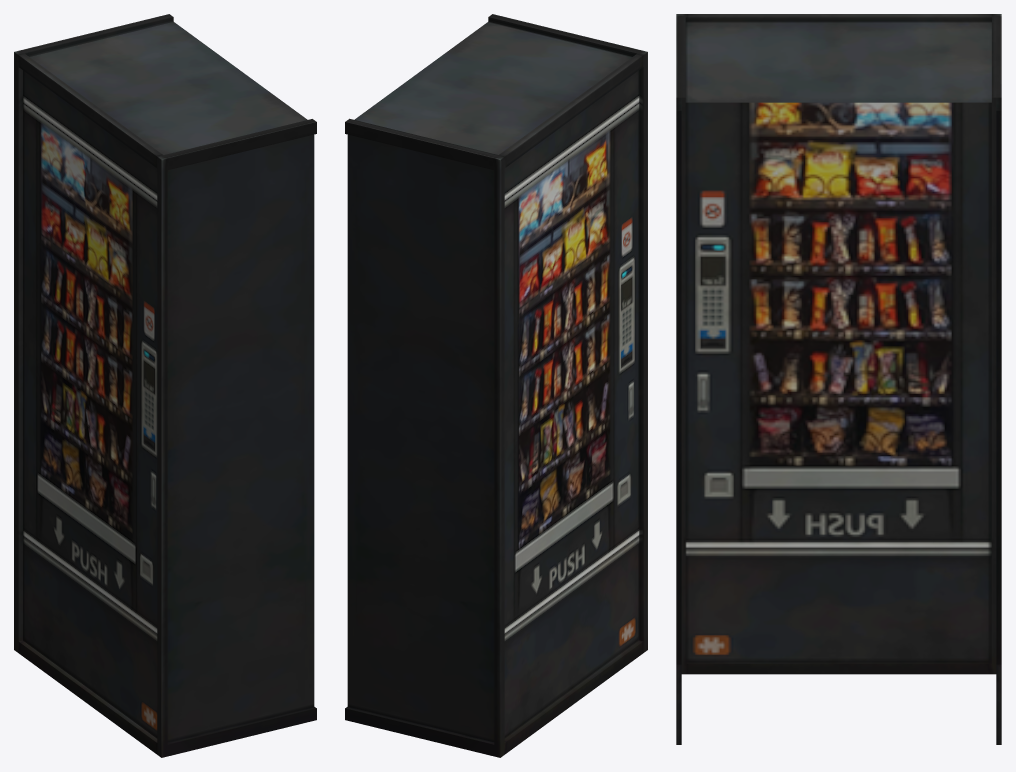
Rendered from VendingMachine.FBX.
3 renders of one model, left to right at view 1: azimuth 30°, elevation 25°; view 2: azimuth 150°, elevation 25°; view 3: azimuth 270°, elevation 25°, orthographic. The views are drawn at different scales.
Parts seen in each view (by area): view 1: VendingMachine; view 2: VendingMachine; view 3: VendingMachine.
Boxes of the visible parts, left/top/right/bottom form: VendingMachine: left=14, top=14, right=316, bottom=757; VendingMachine: left=345, top=14, right=647, bottom=757; VendingMachine: left=676, top=14, right=1001, bottom=744.
Bounding box in the file's own units: 0.5999 × 2.21 × 0.9873.
Materials: 1 (1 with a texture image).
